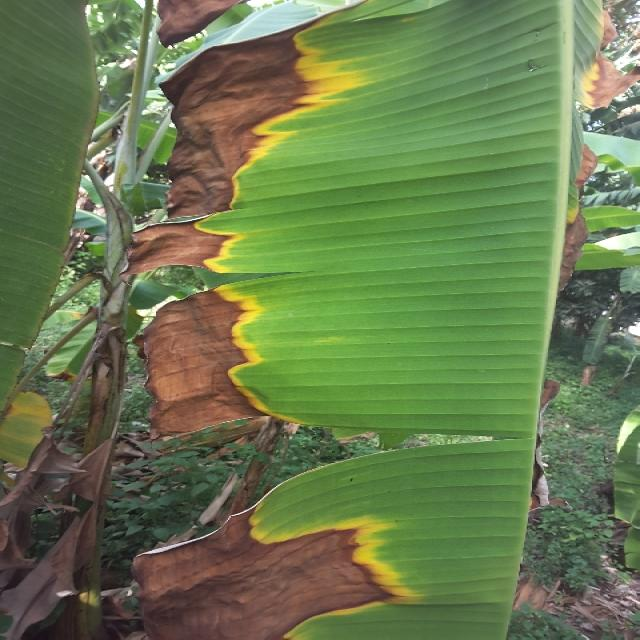Bract_mosaic_virus: (117, 304, 232, 440), (127, 532, 248, 640), (153, 39, 225, 207), (102, 223, 207, 268), (148, 0, 233, 38)
Cordana: (205, 10, 390, 432), (212, 468, 418, 620), (532, 131, 608, 294), (558, 0, 632, 140)
